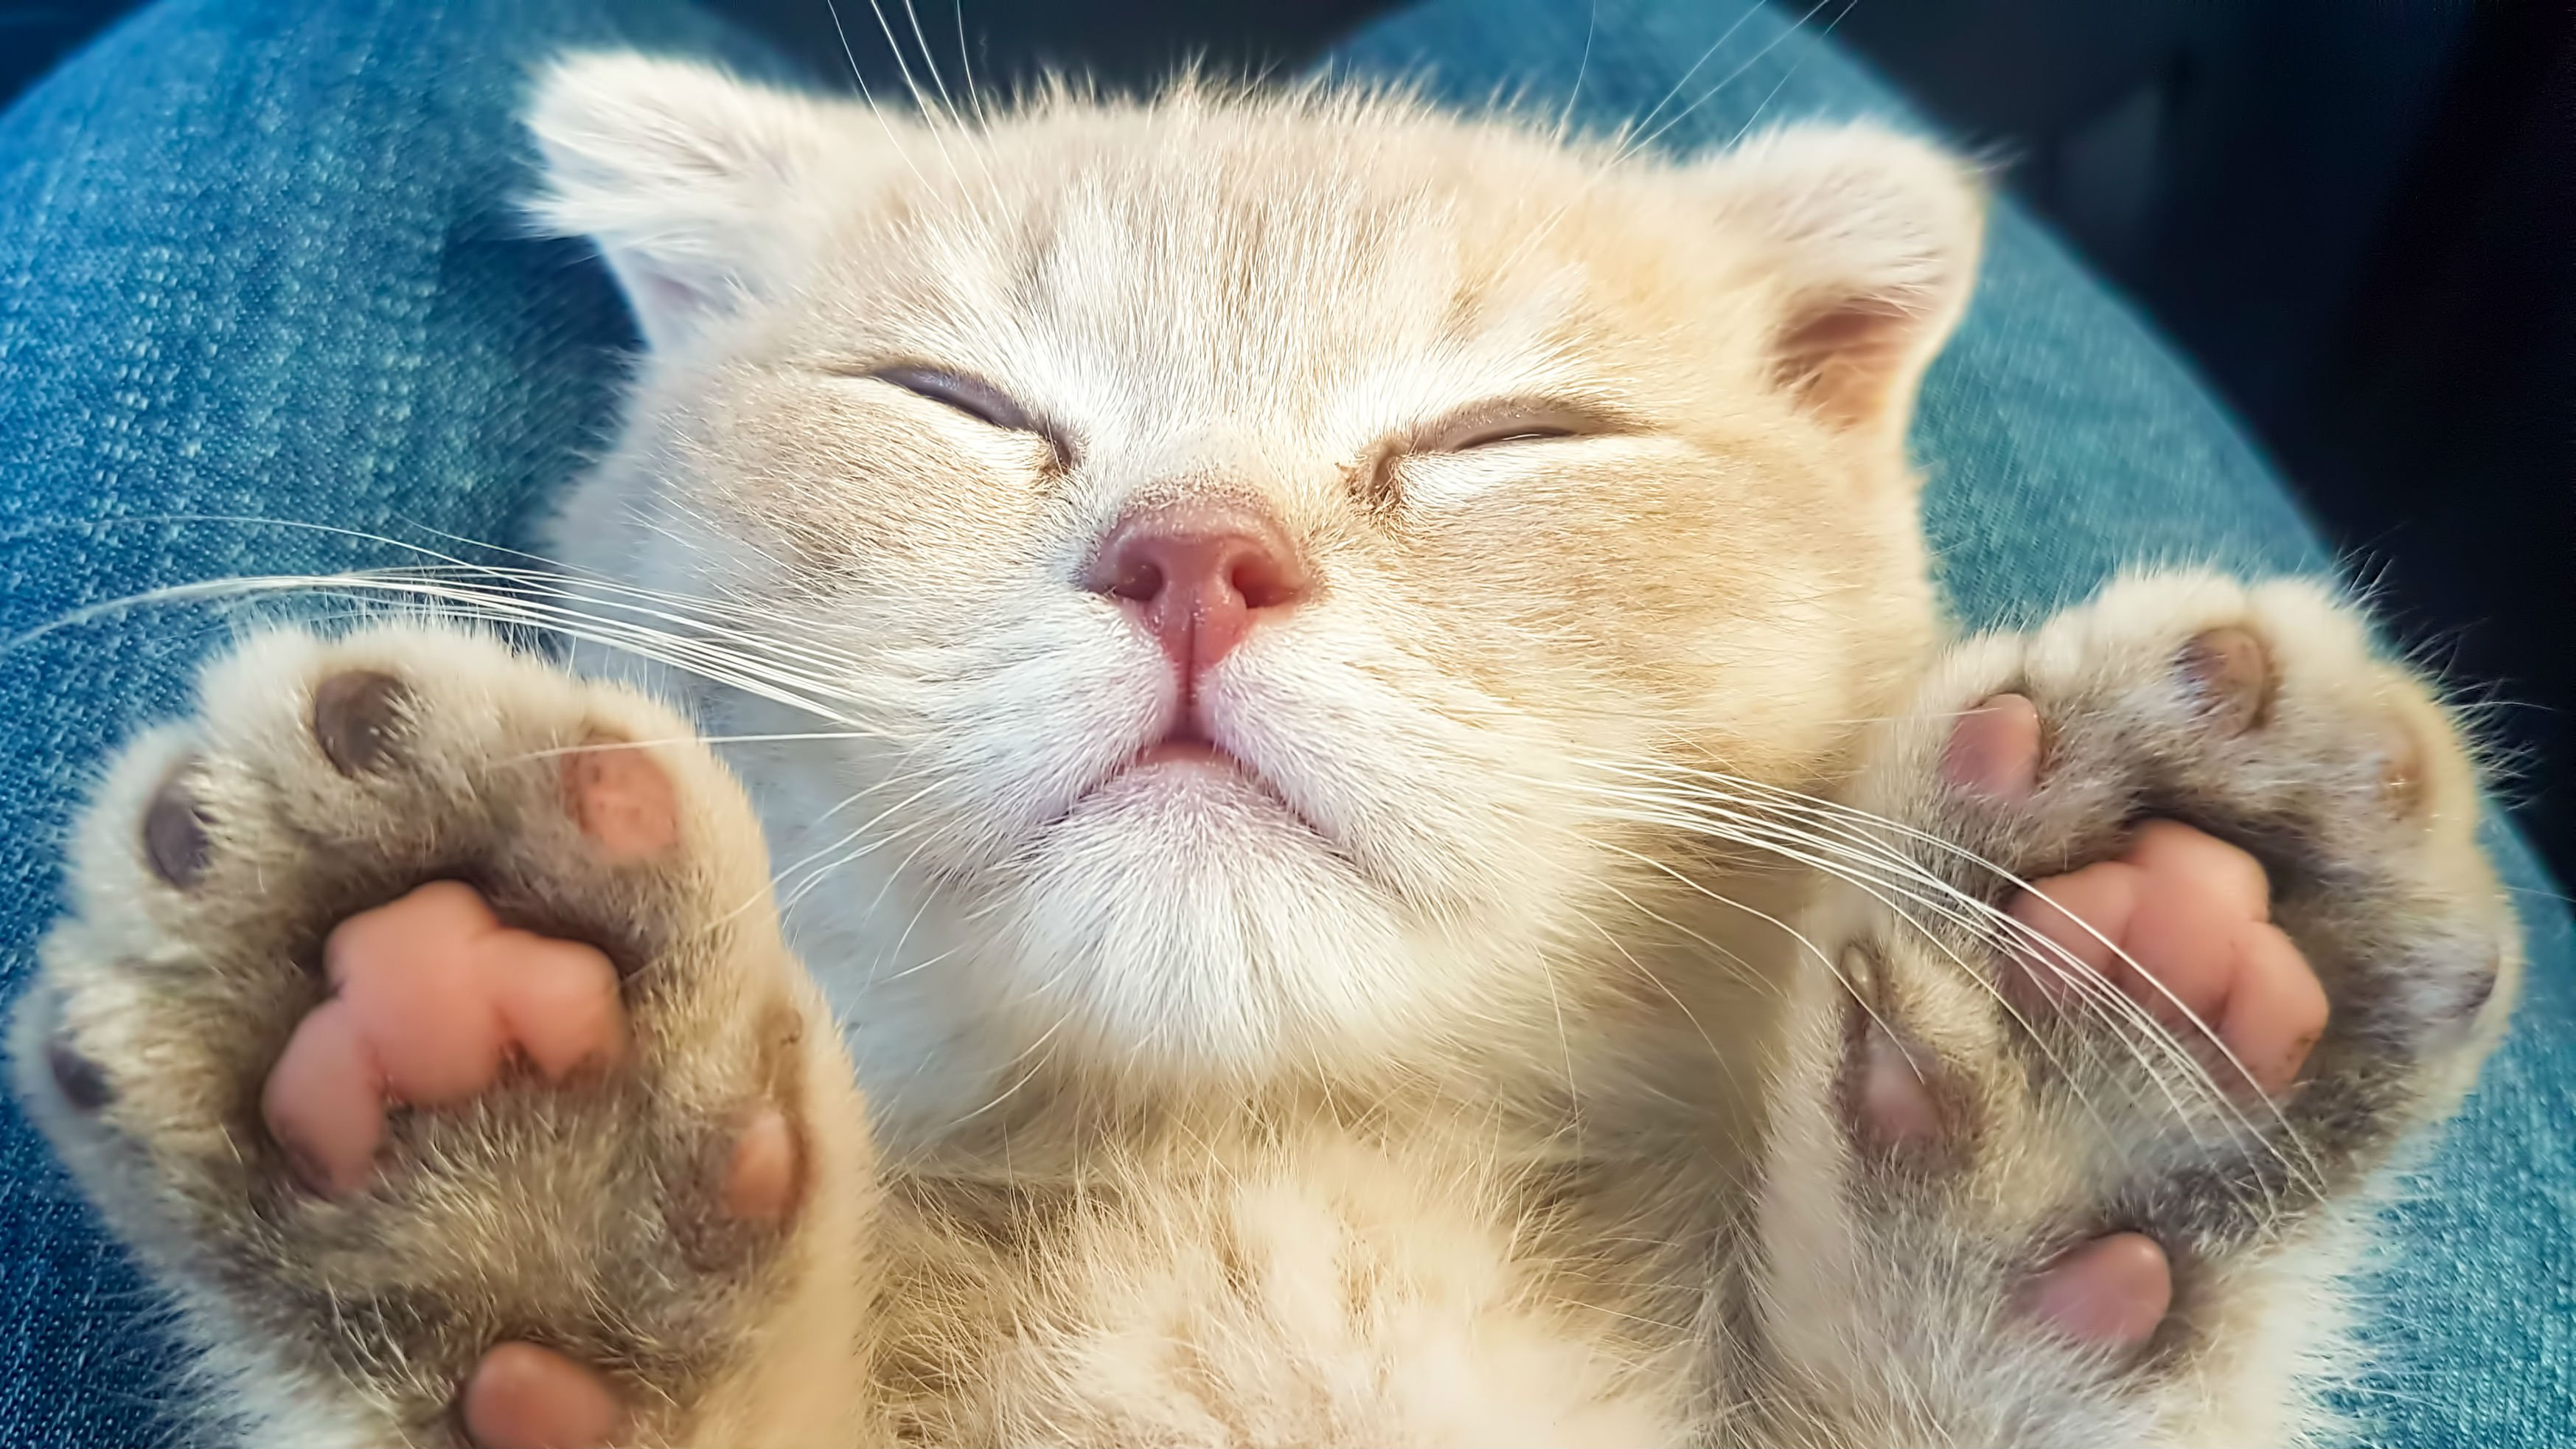cat: (88, 14, 2488, 1449)
